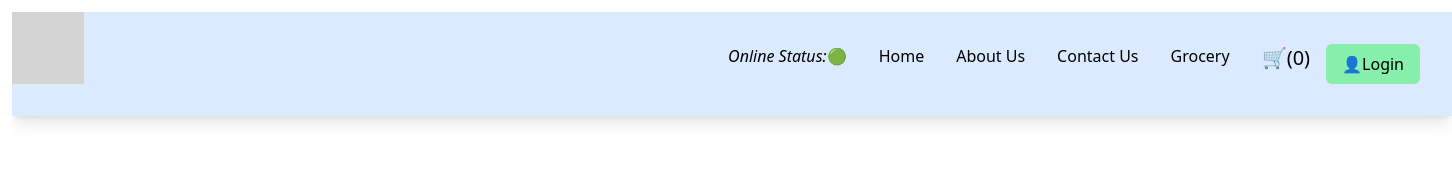
Test: Header Component Test Cases › Should change Login button to Logout on click
Click the button "👤Login". click: coordinates (1373, 64)
box: 1326,44 -> 1420,84
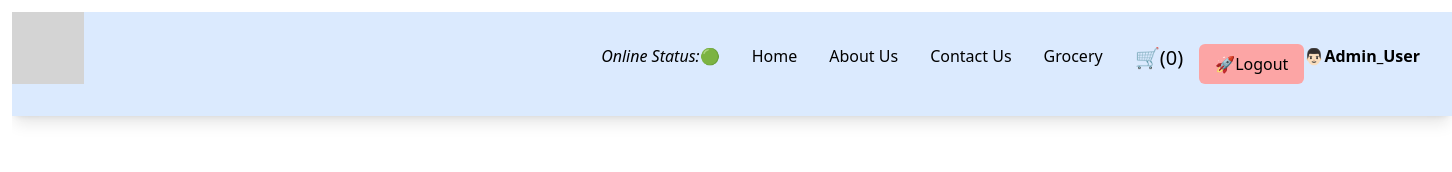
Expected: the button "🚀Logout" is shown, 1199,44 -> 1304,84
